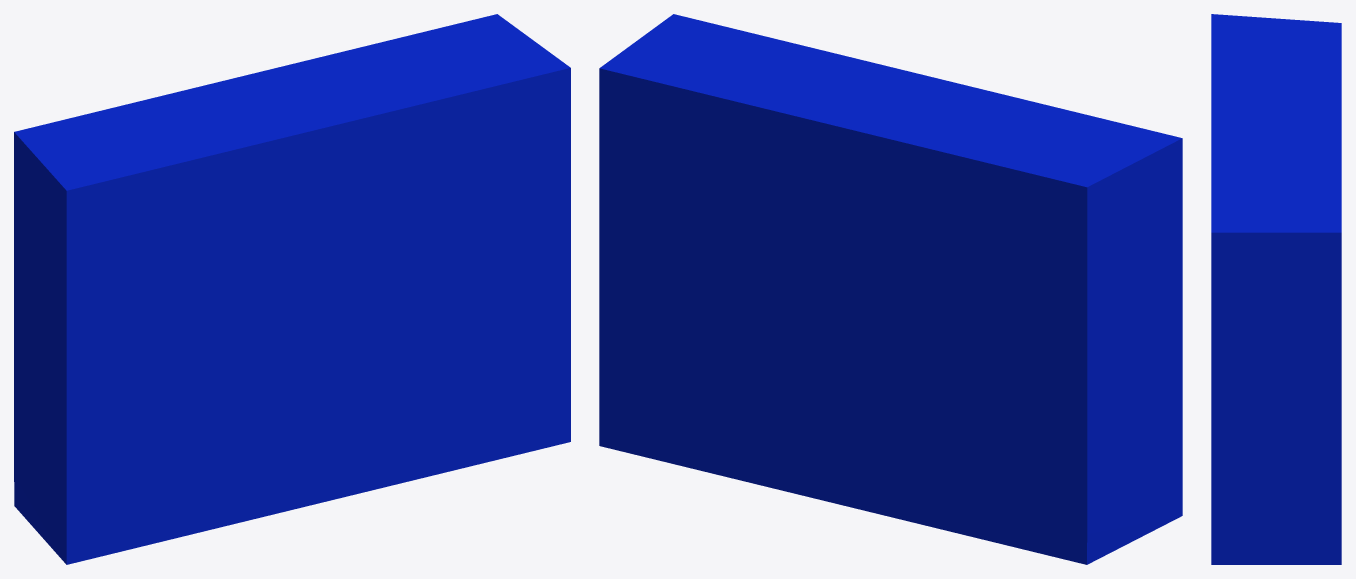
The model's file is simple_example_hole_part_32.obj.
The picture shows the model from 3 angles, left to right: view 1: azimuth 30°, elevation 25°; view 2: azimuth 150°, elevation 25°; view 3: azimuth 270°, elevation 25°; orthographic projection. The views are drawn at different scales.
Size of the model in its own units: 17.22 by 12.21 by 4.35.
